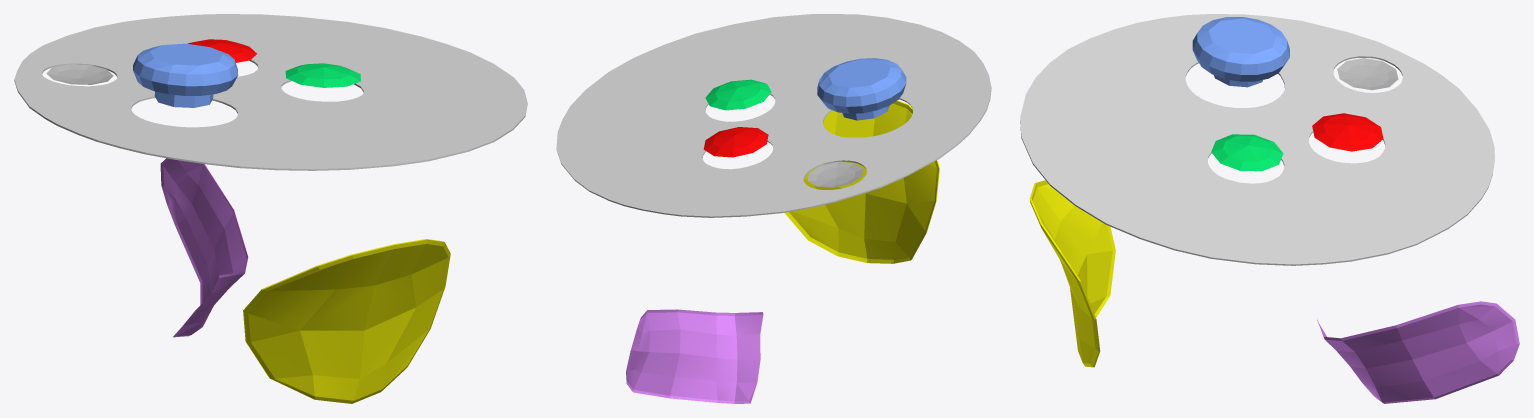
The model's file is webuild-controller.glb.
The picture shows the model from 3 angles, left to right: view 1: azimuth 30°, elevation 25°; view 2: azimuth 150°, elevation 25°; view 3: azimuth 270°, elevation 25°; orthographic projection. The views are drawn at different scales.
Visible parts, largest first — view 1: object_2, object_5, object_3, right_quest2_mesh (×4), object_4; view 2: object_2, object_3, object_4, object_5, right_quest2_mesh (×4); view 3: object_2, object_3, object_4, right_quest2_mesh (×4), object_5.
Part boxes in pixels (<box>): object_2: <box>14,14,527,170</box>; object_5: <box>243,239,450,403</box>; object_3: <box>15,15,526,168</box>; right_quest2_mesh (×4): <box>46,39,360,107</box>; object_4: <box>160,158,248,337</box>; object_2: <box>556,14,991,217</box>; object_3: <box>556,15,990,216</box>; object_4: <box>626,309,763,403</box>; object_5: <box>785,100,939,263</box>; right_quest2_mesh (×4): <box>703,58,906,187</box>; object_2: <box>1020,14,1494,265</box>; object_3: <box>1020,14,1494,264</box>; object_4: <box>1317,301,1519,403</box>; right_quest2_mesh (×4): <box>1192,17,1398,171</box>; object_5: <box>1029,180,1115,367</box>.
Size of the model in its own units: 6.43 by 4.96 by 6.78.
